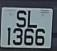1: (6, 26, 13, 47)
3: (13, 27, 25, 47)
6: (24, 27, 35, 48), (35, 27, 46, 48)
L: (26, 10, 38, 29)
S: (15, 10, 28, 28)
